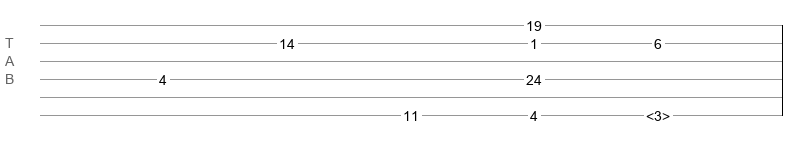1: (530, 36, 538, 46)
11: (403, 108, 419, 118)
14: (279, 36, 295, 46)
19: (526, 18, 542, 28)
24: (526, 72, 542, 82)
4: (159, 72, 167, 82), (530, 108, 538, 118)
6: (654, 36, 662, 46)
harmonic: (646, 108, 670, 118)
